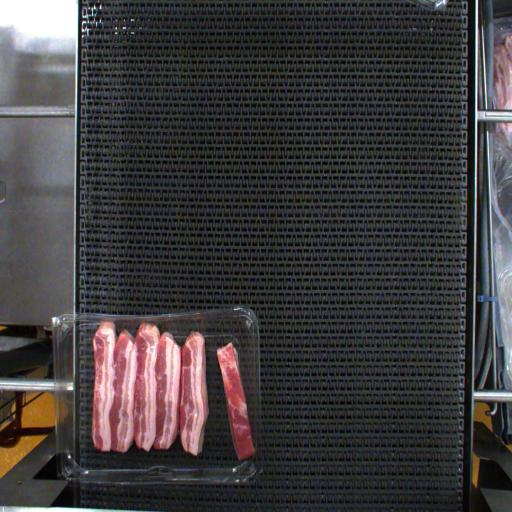loose-meat: (205, 328, 268, 471)
